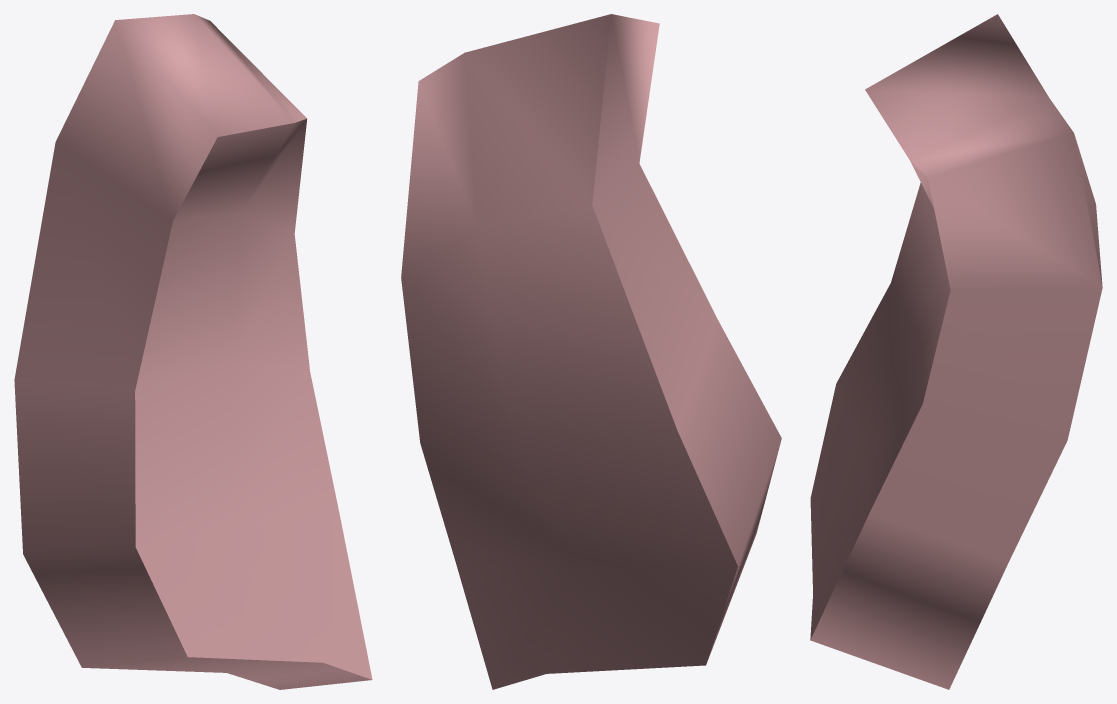
The picture shows the model from 3 angles, left to right: view 1: azimuth 30°, elevation 25°; view 2: azimuth 150°, elevation 25°; view 3: azimuth 270°, elevation 25°; orthographic projection. The views are drawn at different scales.
Parts seen in each view (by area): view 1: ZA_f0e0eb6d3a09b7de; view 2: ZA_f0e0eb6d3a09b7de; view 3: ZA_f0e0eb6d3a09b7de.
Boxes of the visible parts, box(x1,y1,x2,y2) form: ZA_f0e0eb6d3a09b7de: box(14, 14, 372, 689); ZA_f0e0eb6d3a09b7de: box(401, 14, 781, 689); ZA_f0e0eb6d3a09b7de: box(810, 14, 1102, 689).
Size of the model in its own units: 0.00527 by 0.0133 by 0.00573.
